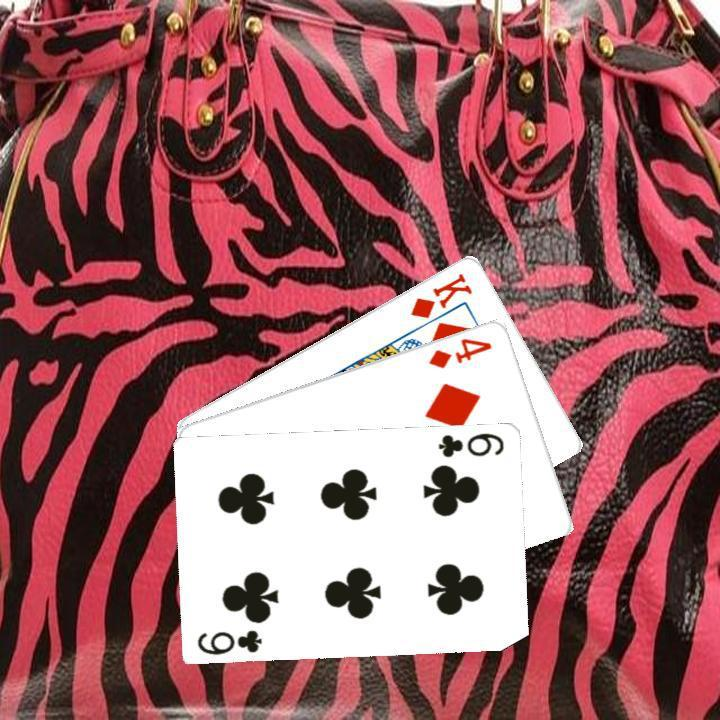4: (424, 333, 494, 370)
6: (435, 427, 507, 459), (194, 625, 265, 656)
K: (405, 268, 475, 320)
